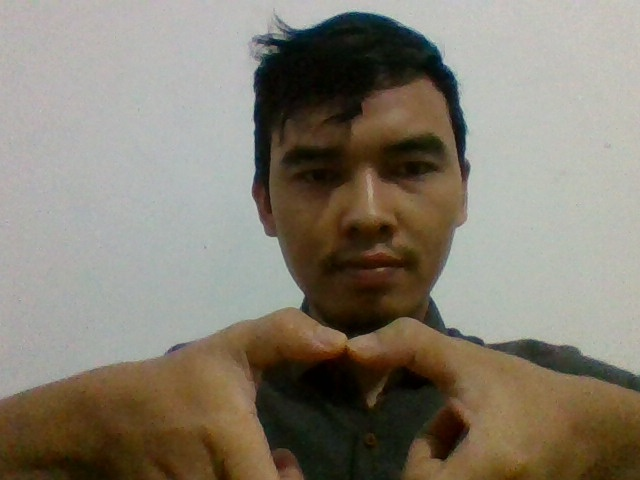iloveyou: (144, 311, 583, 480)
